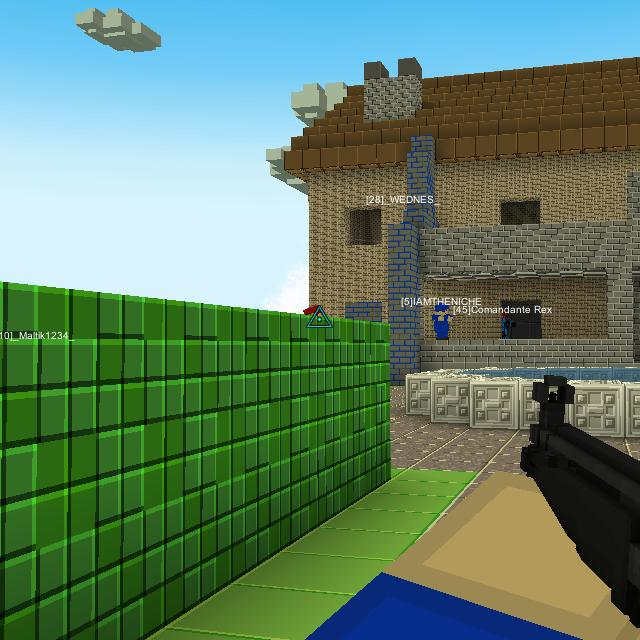enemy: (432, 298, 449, 341), (501, 305, 512, 340), (302, 304, 324, 316)
